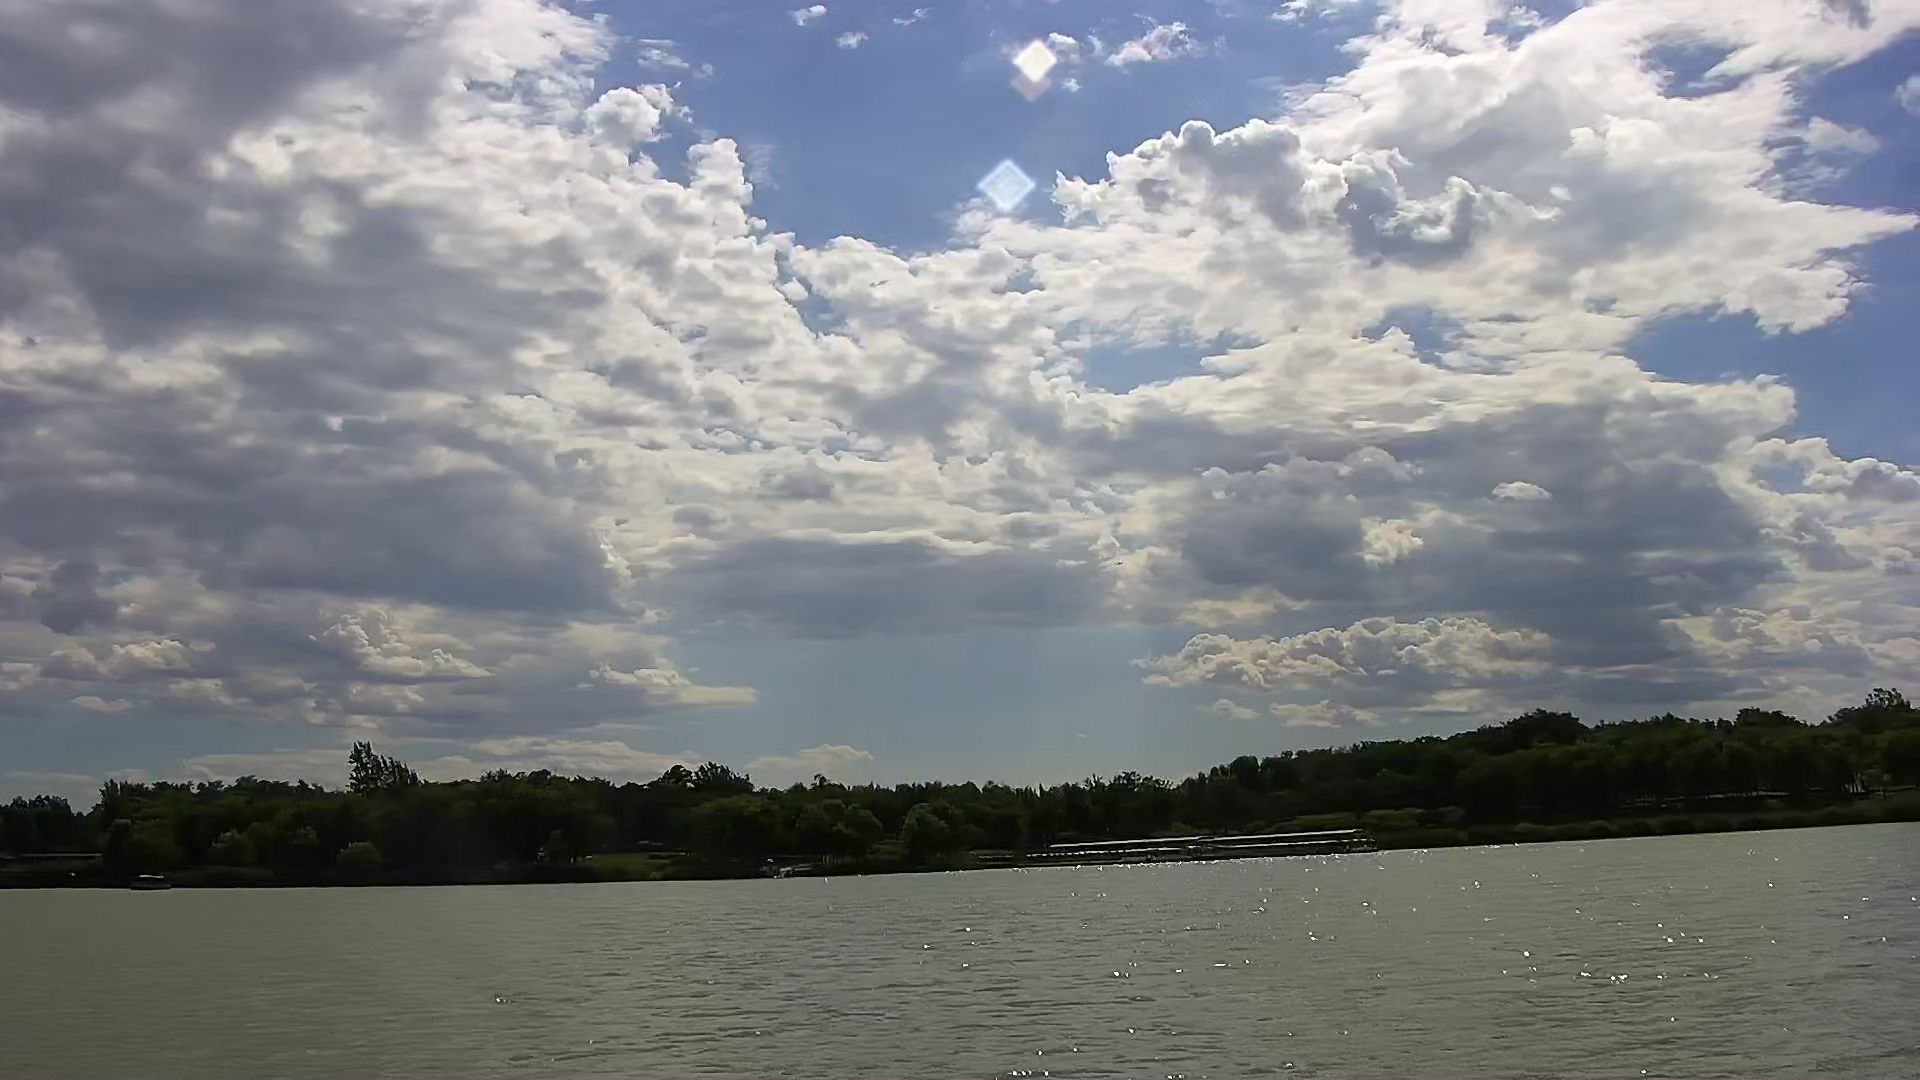harbor: (1017, 824, 1377, 866)
